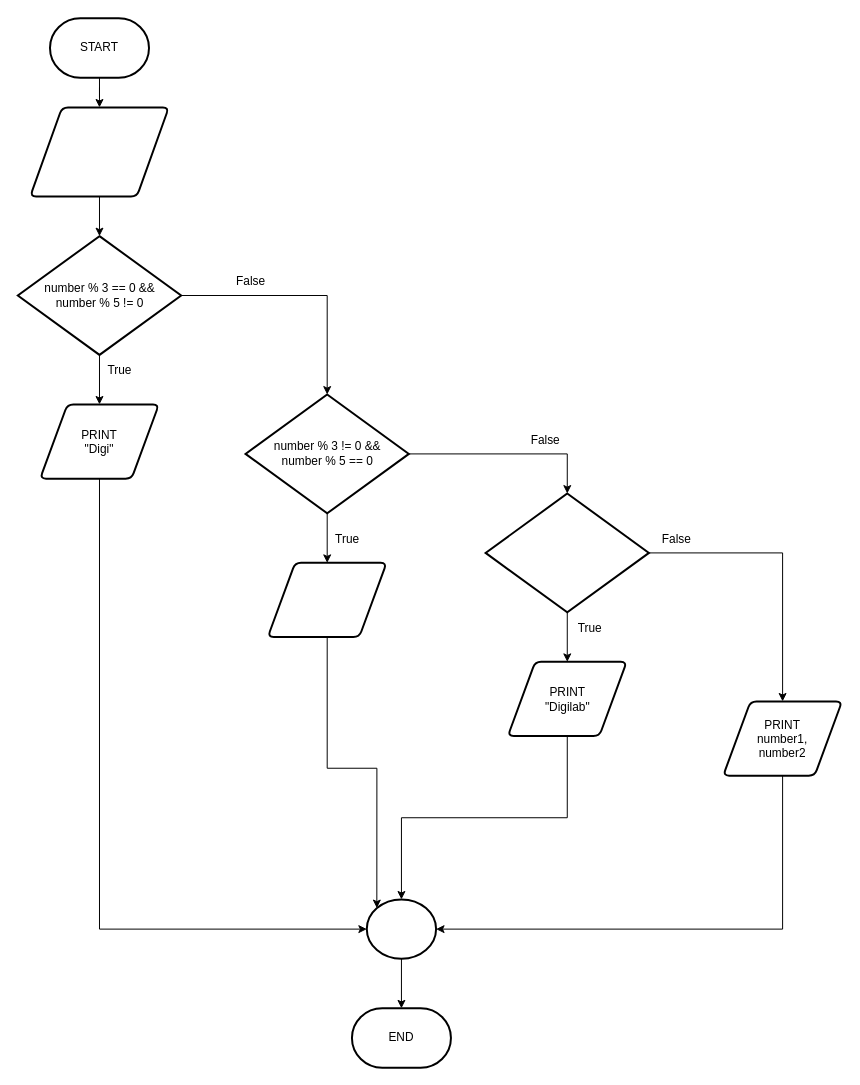
This 860x1085 diagram has some shape labels left out. The centre of each missing label's shape, as x and y in pixels:
number % 3 == 0 && number % 5 == 0: point (566, 552)
PRINT "Lab": point (326, 599)
Read number: point (99, 151)
